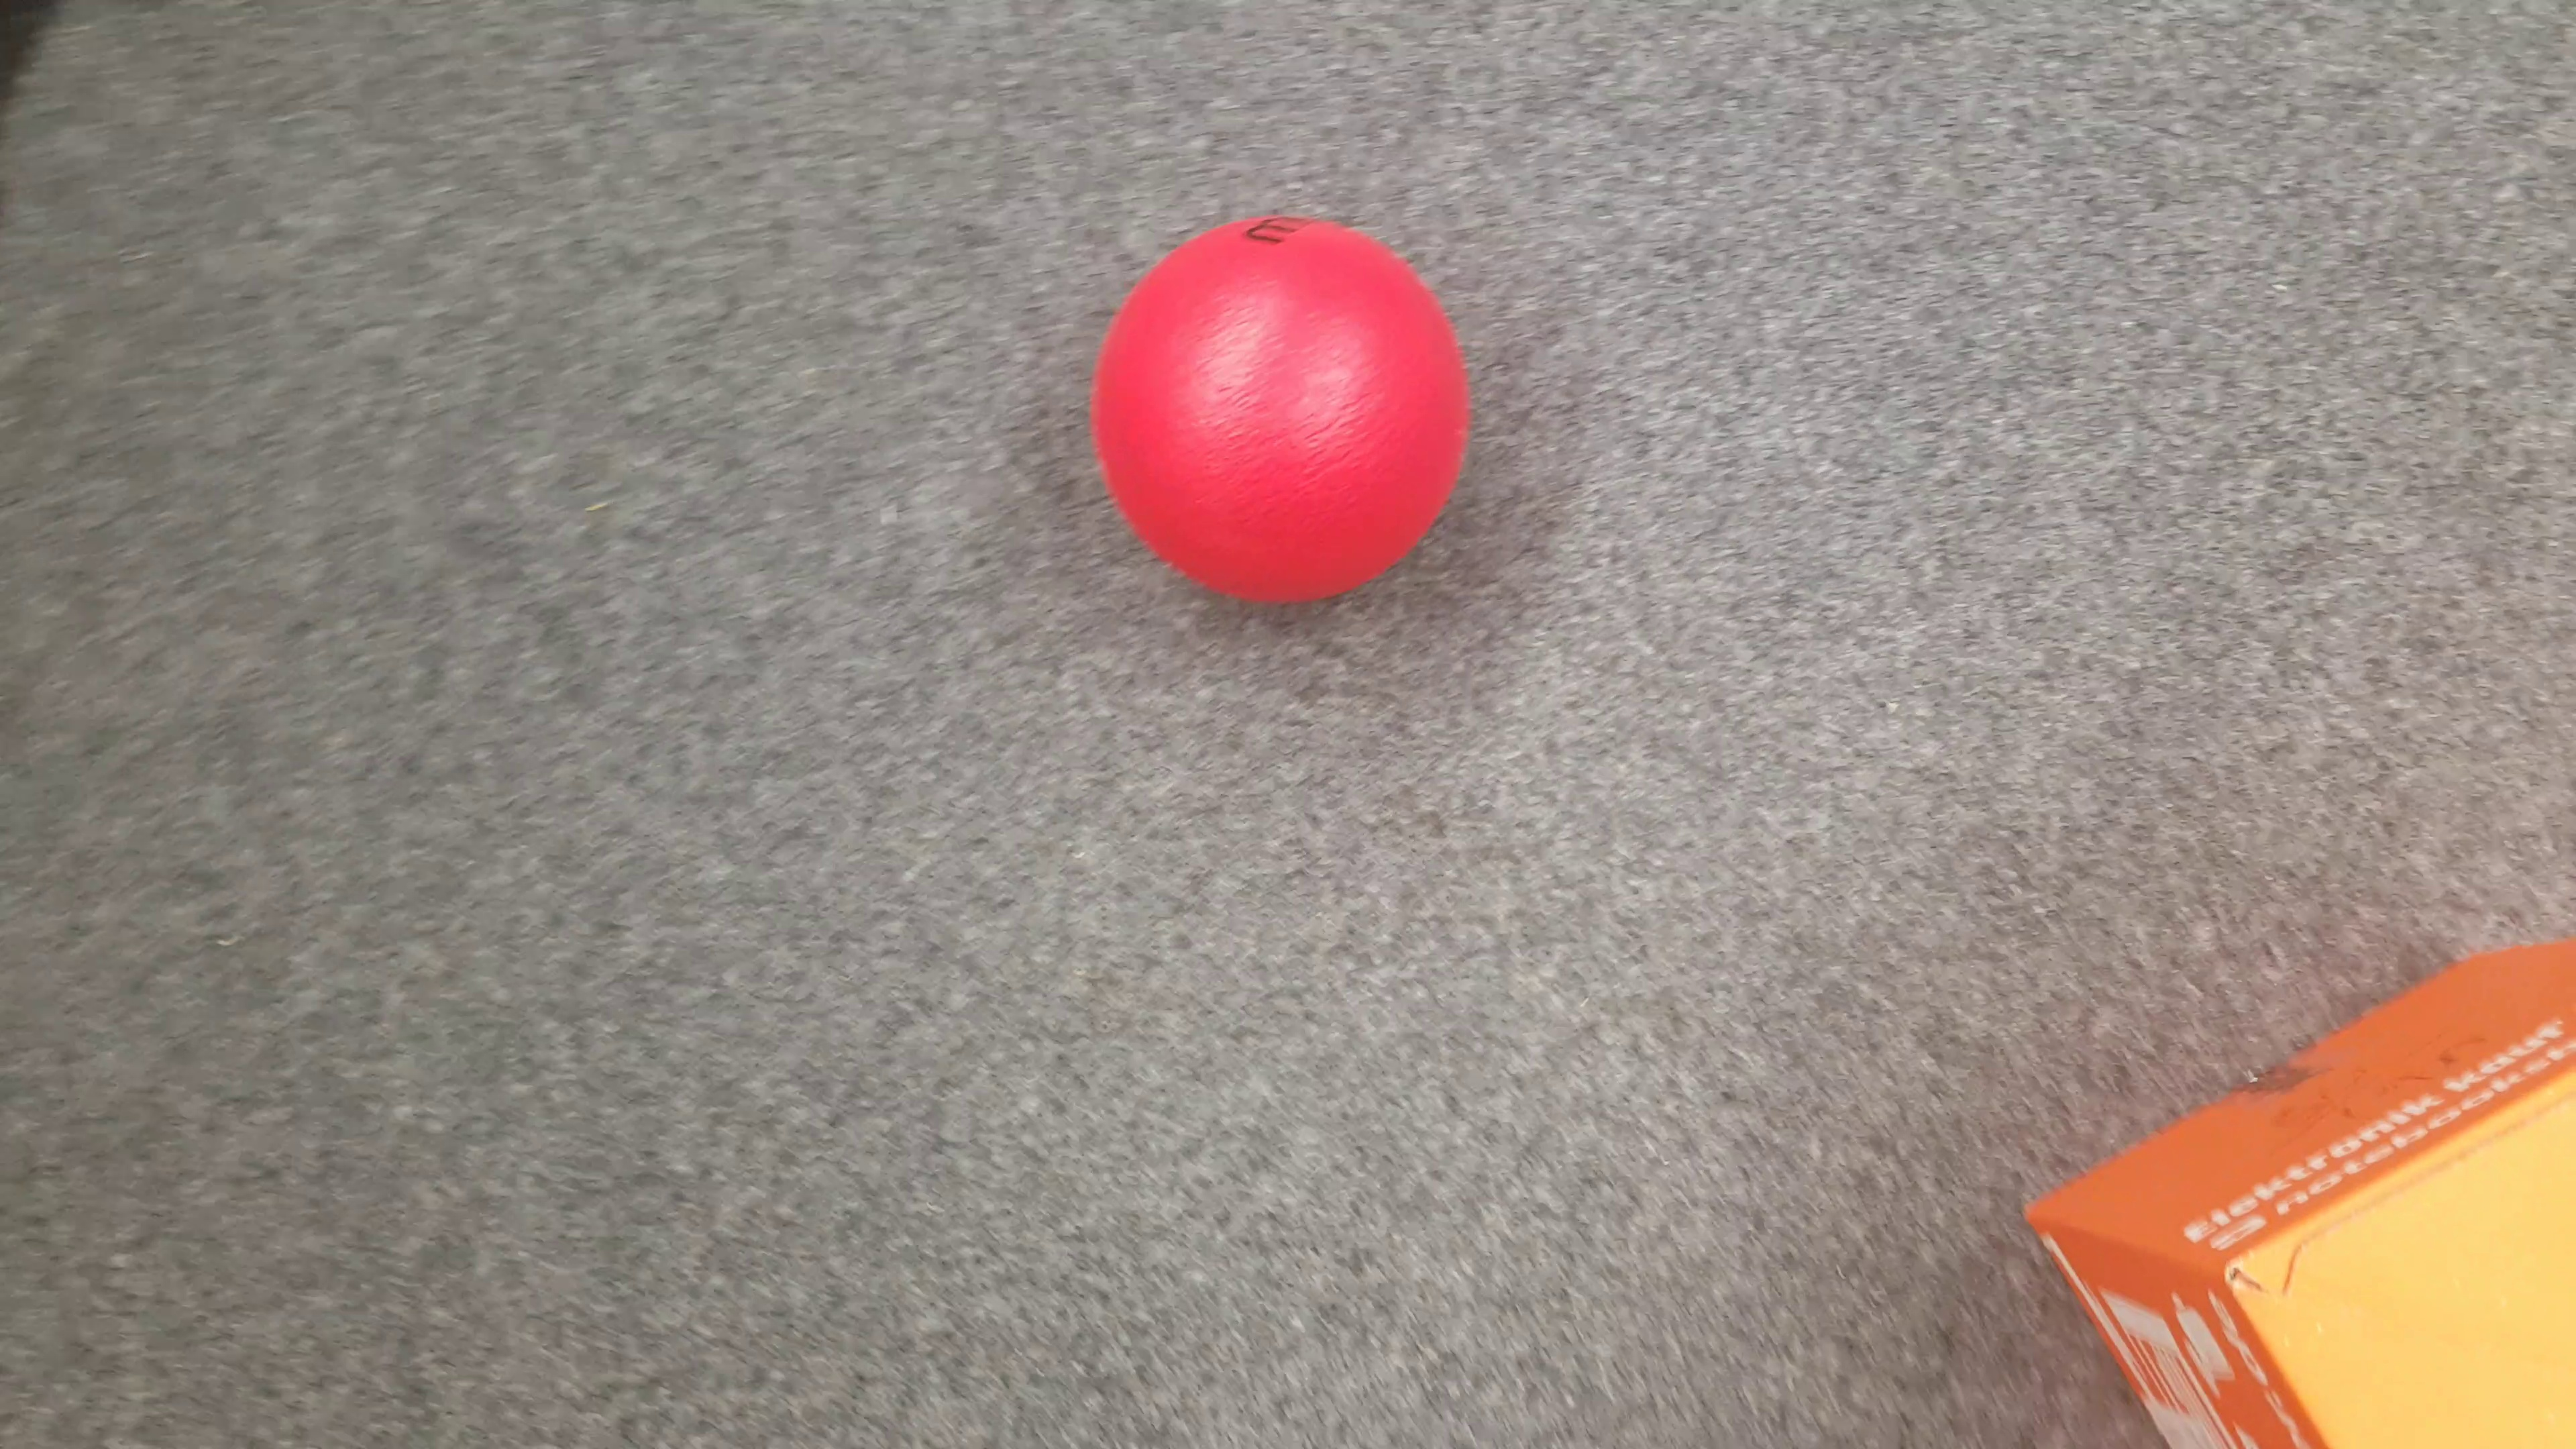kick: (1099, 214, 1479, 596)
push: (2045, 932, 2576, 1405)
